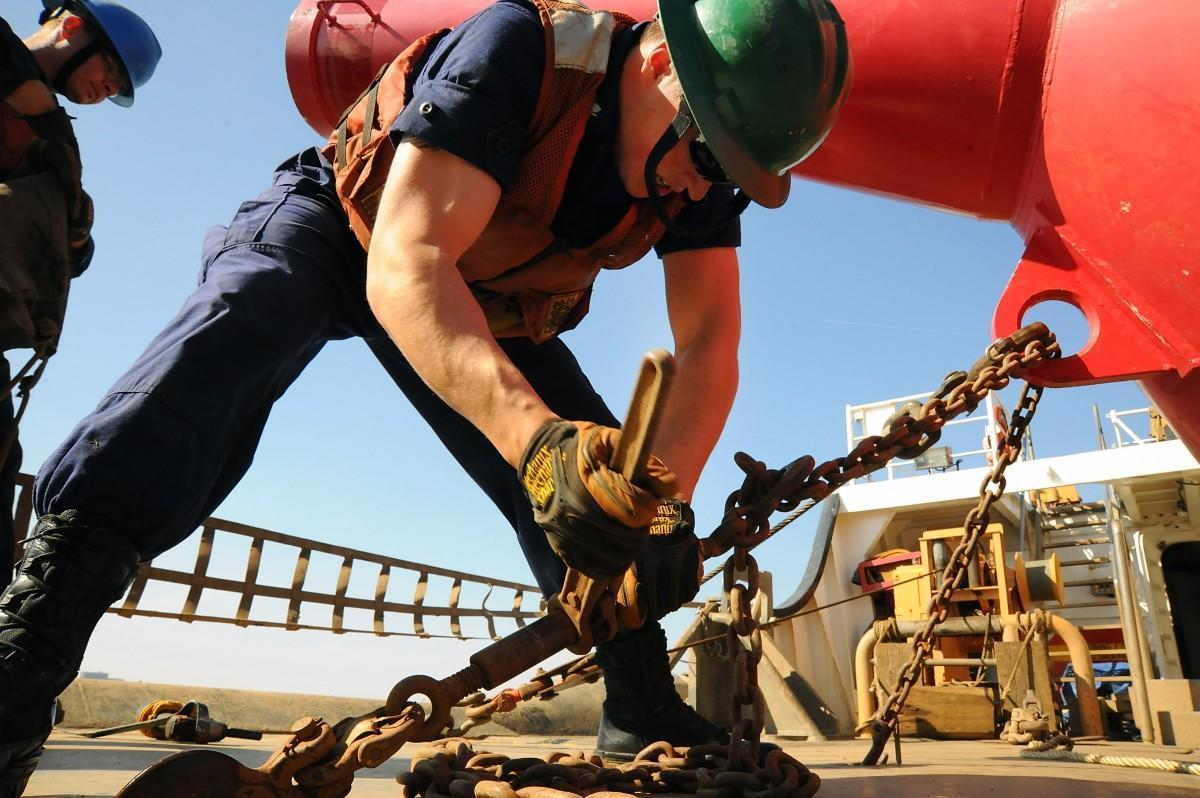Boots: (647, 0, 854, 211), (31, 0, 170, 119)
Glass: (310, 0, 689, 367)
